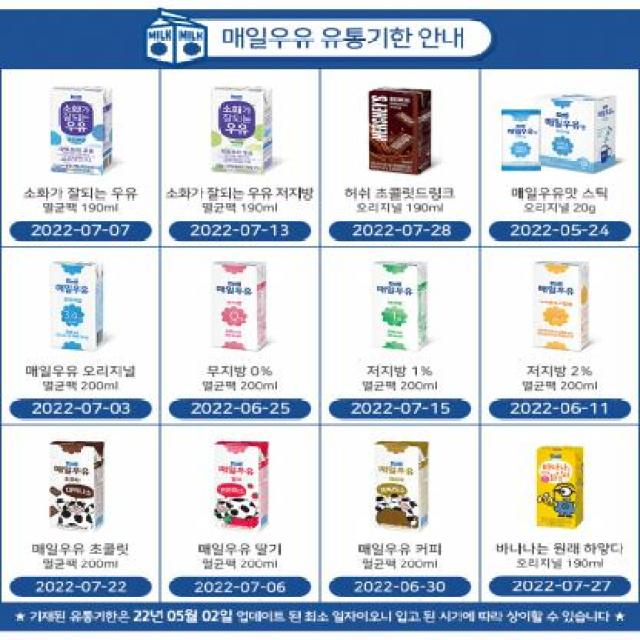tetra: (184, 82, 298, 180), (28, 74, 129, 181), (29, 252, 123, 360), (506, 437, 608, 535), (193, 433, 284, 538), (514, 251, 604, 357), (35, 432, 122, 538), (359, 433, 444, 538), (357, 77, 445, 178), (357, 256, 443, 356), (198, 256, 278, 356)
